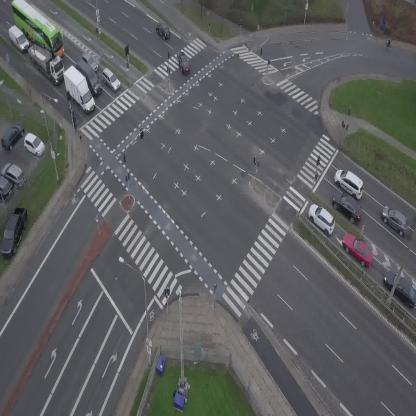bicycle: (72, 115, 79, 132), (384, 37, 392, 49)
car: (337, 228, 379, 272), (327, 187, 368, 227), (329, 165, 370, 201), (303, 200, 341, 237), (376, 202, 414, 238), (97, 67, 124, 94), (79, 50, 102, 73), (153, 21, 174, 43), (175, 50, 192, 76)
lorry: (17, 35, 73, 89), (58, 62, 98, 118), (73, 57, 105, 99), (3, 24, 33, 54)
